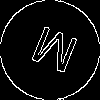M: (25, 25, 81, 83)
